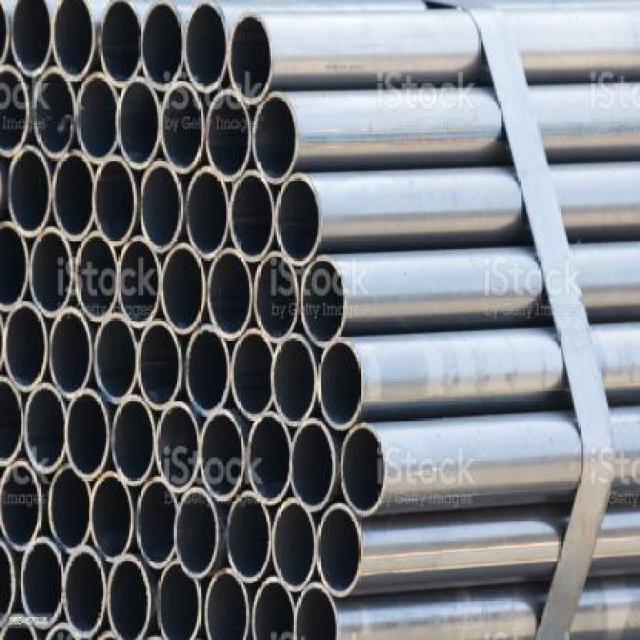pipe: (289, 419, 336, 513), (316, 503, 363, 597), (340, 423, 387, 516), (318, 336, 364, 430), (254, 91, 300, 184), (199, 409, 245, 502), (246, 411, 292, 504), (276, 174, 322, 266), (154, 402, 200, 494), (229, 11, 274, 105), (205, 89, 251, 180), (185, 325, 231, 416), (229, 169, 274, 262), (271, 334, 316, 427), (208, 248, 253, 340), (65, 389, 111, 479), (160, 80, 204, 174), (115, 75, 160, 166), (160, 243, 205, 334), (111, 394, 156, 485), (140, 160, 184, 253), (272, 499, 316, 592), (140, 0, 185, 90), (8, 146, 52, 238), (3, 300, 47, 392), (94, 312, 138, 404), (184, 0, 228, 92), (135, 320, 180, 409), (76, 71, 120, 162), (254, 252, 298, 343), (300, 256, 344, 347), (48, 308, 92, 399), (231, 329, 275, 420), (91, 472, 135, 563), (174, 488, 218, 579), (226, 491, 270, 582), (51, 149, 94, 242), (63, 546, 106, 639), (33, 66, 76, 158), (92, 156, 136, 245), (20, 537, 63, 628), (118, 235, 160, 328), (135, 477, 178, 567), (186, 168, 228, 260), (31, 227, 74, 316), (75, 233, 118, 322), (23, 383, 66, 472), (49, 463, 92, 552), (99, 0, 143, 86), (106, 554, 150, 640), (0, 458, 41, 550), (157, 559, 202, 640), (51, 0, 95, 82), (205, 568, 250, 639), (11, 0, 51, 75), (253, 576, 296, 640), (0, 66, 28, 157), (0, 220, 28, 310), (294, 583, 338, 640), (0, 374, 24, 468)
